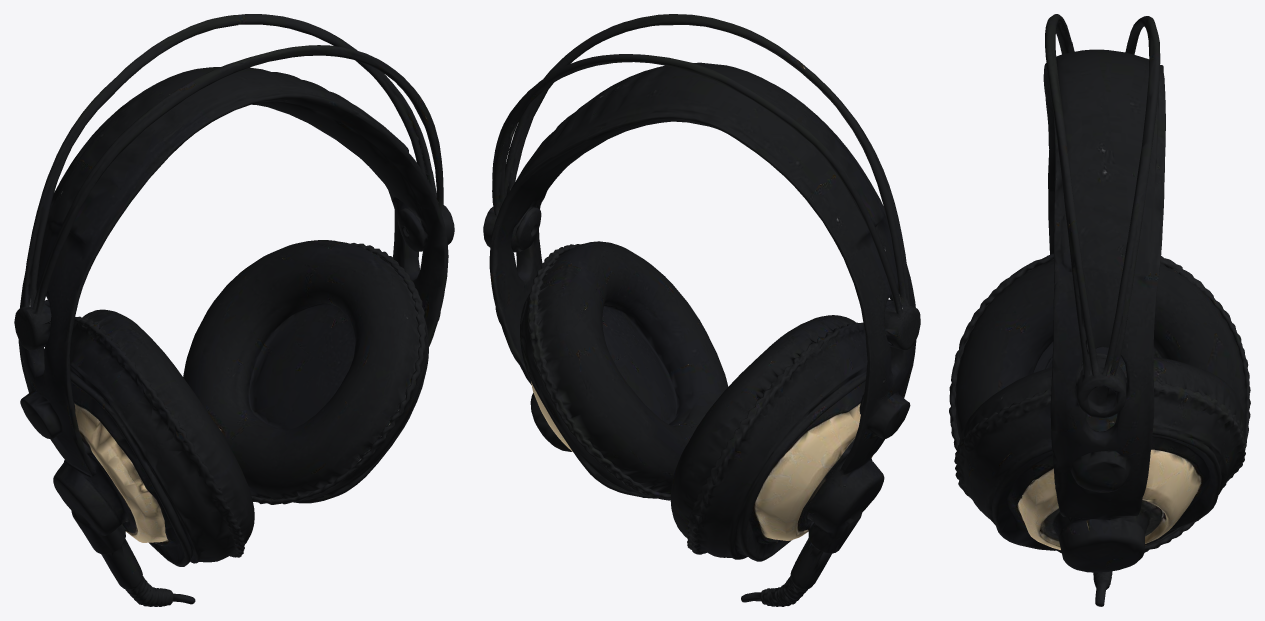
File: headphones.glb
3 renders of one model, left to right at view 1: azimuth 30°, elevation 25°; view 2: azimuth 150°, elevation 25°; view 3: azimuth 270°, elevation 25°, orthographic. The views are drawn at different scales.
Bounding box in the file's own units: 1.52 × 1.91 × 0.877.
1 material, 1 textured.
